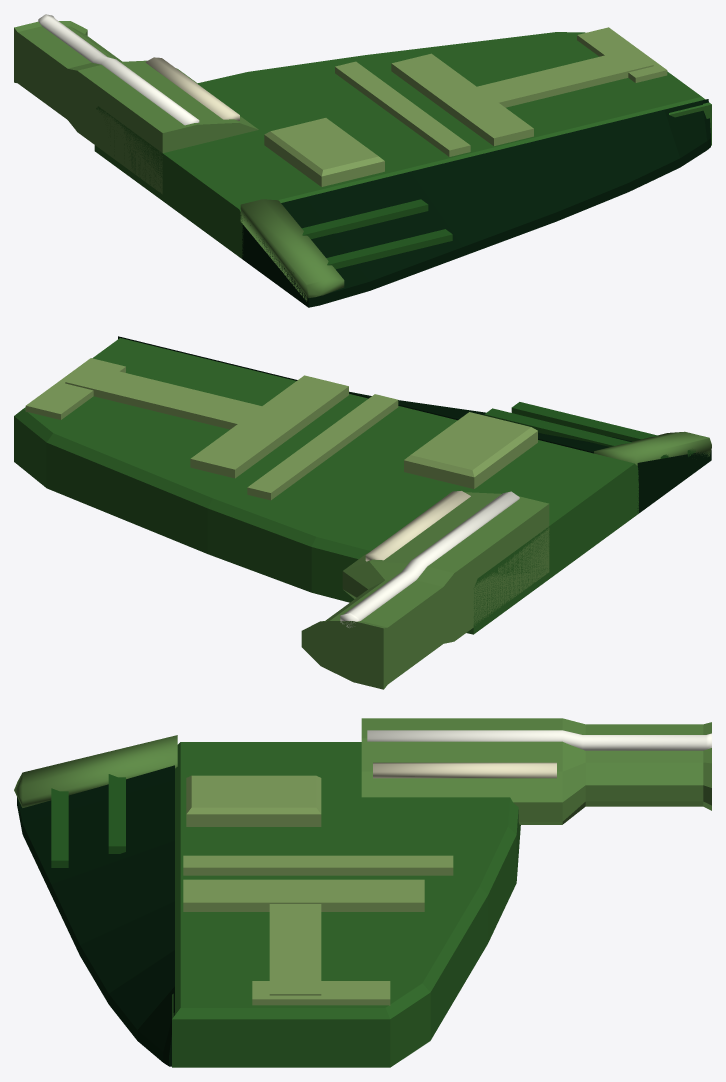
The model's file is newshj-53.glb.
3 renders of one model, top to bottom at view 1: azimuth 30°, elevation 25°; view 2: azimuth 150°, elevation 25°; view 3: azimuth 270°, elevation 25°, orthographic. The views are drawn at different scales.
Parts seen in each view (by area): view 1: newshj-53; view 2: newshj-53; view 3: newshj-53.
Part boxes in pixels (x1,y1,x2,y2): newshj-53: (14,14,711,307); newshj-53: (14,336,711,689); newshj-53: (14,718,711,1067).
Size of the model in its own units: 1.85 by 0.275 by 2.03.
